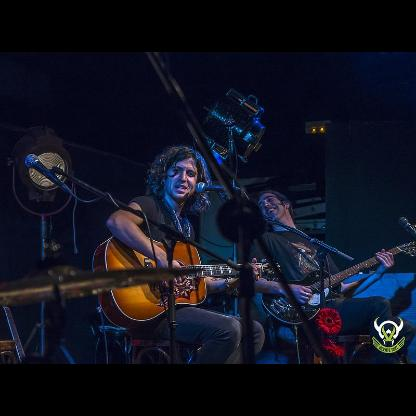acousticguitar: (92, 233, 282, 327)
guitar: (259, 239, 416, 326)
